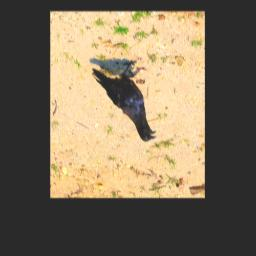Crow: (92, 60, 157, 142)
